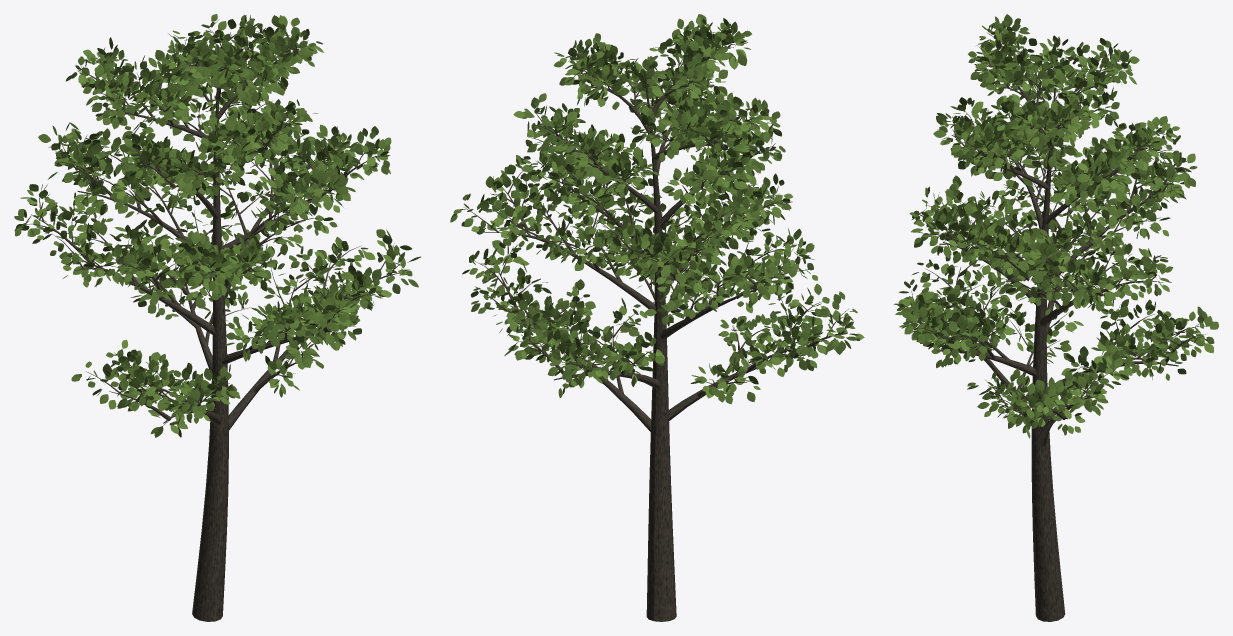
The model's file is broad_01_lod0.glb.
The picture shows the model from 3 angles, left to right: view 1: azimuth 30°, elevation 25°; view 2: azimuth 150°, elevation 25°; view 3: azimuth 270°, elevation 25°; orthographic projection. The views are drawn at different scales.
Parts seen in each view (by area): view 1: individual_folded_leaves, trunk_branches; view 2: individual_folded_leaves, trunk_branches; view 3: individual_folded_leaves, trunk_branches.
Part boxes in pixels (x1=…): individual_folded_leaves: x1=14, y1=14, x2=420, y2=437; trunk_branches: x1=23, y1=28, x2=401, y2=621; individual_folded_leaves: x1=450, y1=14, x2=864, y2=404; trunk_branches: x1=464, y1=33, x2=848, y2=621; individual_folded_leaves: x1=893, y1=14, x2=1218, y2=438; trunk_branches: x1=911, y1=34, x2=1205, y2=621.
Size of the model in its own units: 6.97 by 10.81 by 5.52.
2 materials, 1 textured.
